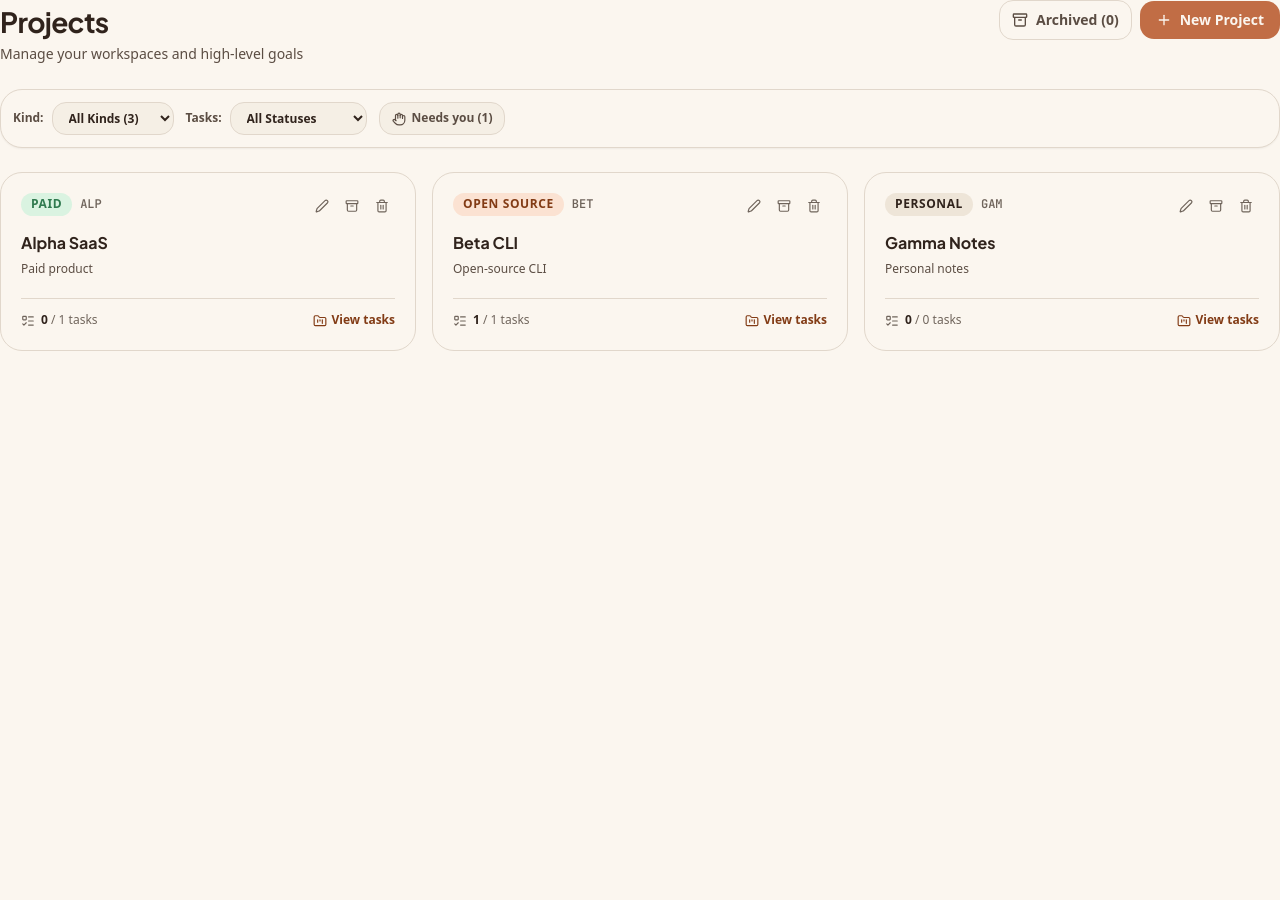
Test: ProjectsView filtering and detail modal › opens ProjectDetailModal when clicking a project name
Click the button "Alpha SaaS" at (64, 244), box [21, 231, 108, 256]
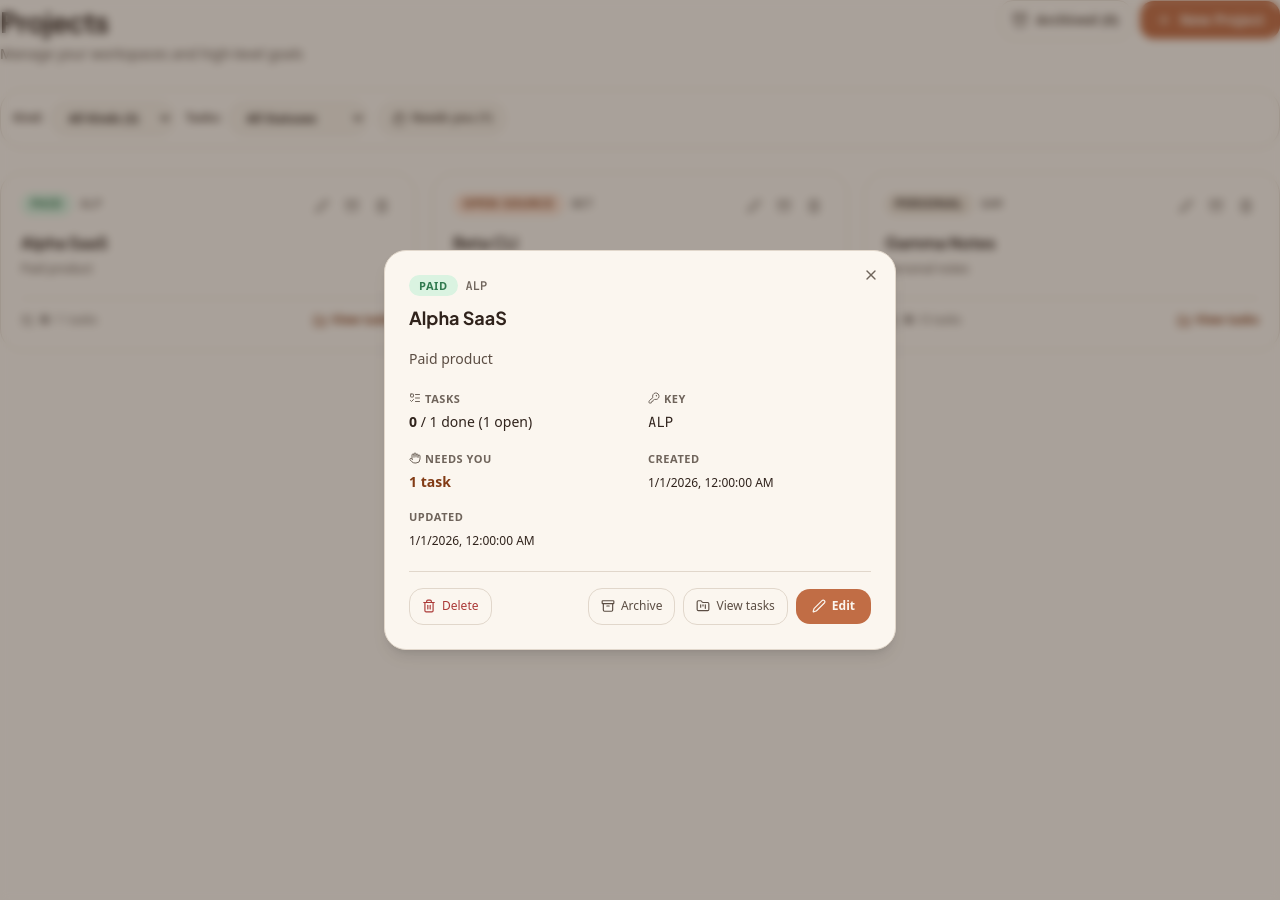
Now the dialog "Alpha SaaS" is shown
